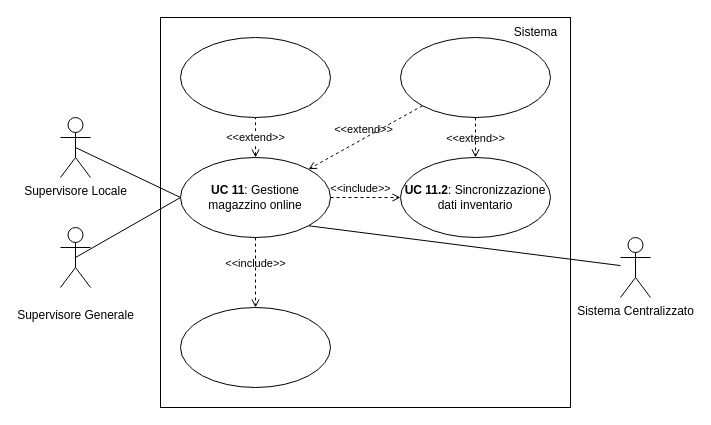
Image size: 711x425. Some labels were removed from this diagram. Each missing label, with the centre of its shape:
UC 11.1 : Rilevamento ritorno online: the point at 255,347
UC 11.3 : Risoluzione conflitti di dati: the point at 475,77
UC 9.2 : Generazione notifica di disconnessione: the point at 255,77
